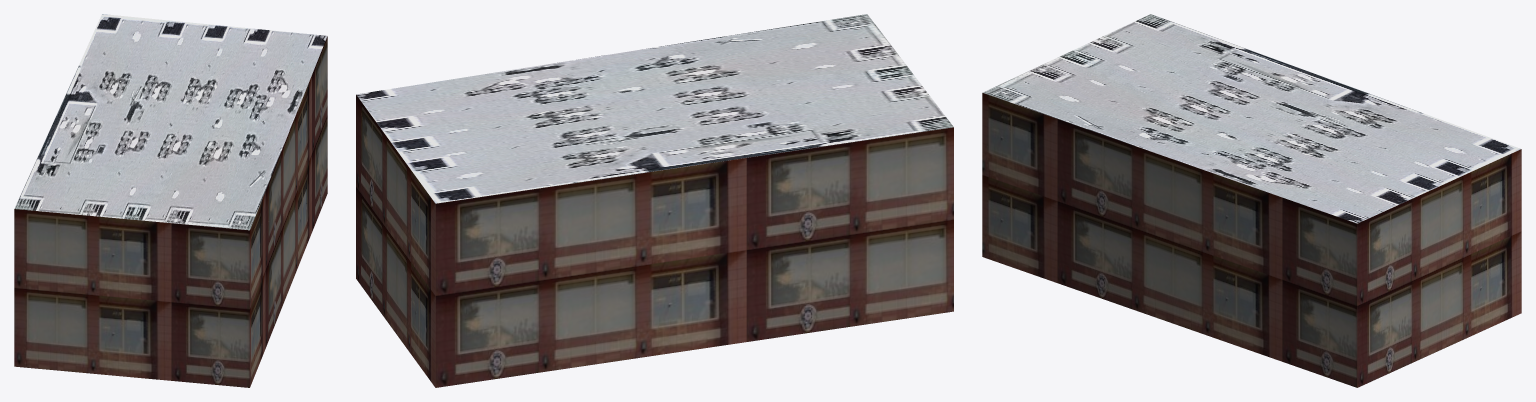
The model's file is ResTex__868.fbx.
3 renders of one model, left to right at view 1: azimuth 30°, elevation 25°; view 2: azimuth 150°, elevation 25°; view 3: azimuth 270°, elevation 25°, orthographic. The views are drawn at different scales.
Parts seen in each view (by area): view 1: CityEngineMaterial_13_m, CityEngineMaterial_m; view 2: CityEngineMaterial_13_m, CityEngineMaterial_m; view 3: CityEngineMaterial_13_m, CityEngineMaterial_m.
Boxes of the visible parts, x1,y1,x2,y2 form: CityEngineMaterial_13_m: [14, 36, 327, 387]; CityEngineMaterial_m: [14, 14, 327, 230]; CityEngineMaterial_13_m: [356, 95, 953, 387]; CityEngineMaterial_m: [356, 14, 953, 203]; CityEngineMaterial_13_m: [982, 93, 1521, 387]; CityEngineMaterial_m: [983, 14, 1520, 223].
Bounding box in the file's own units: 16.42 × 6 × 17.84.
Materials: 2 (2 with a texture image).
